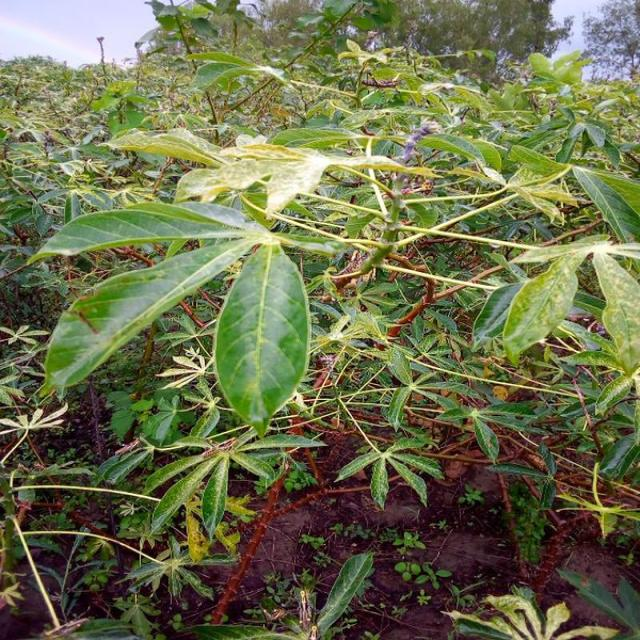cassava leaf: (213, 240, 310, 436)
